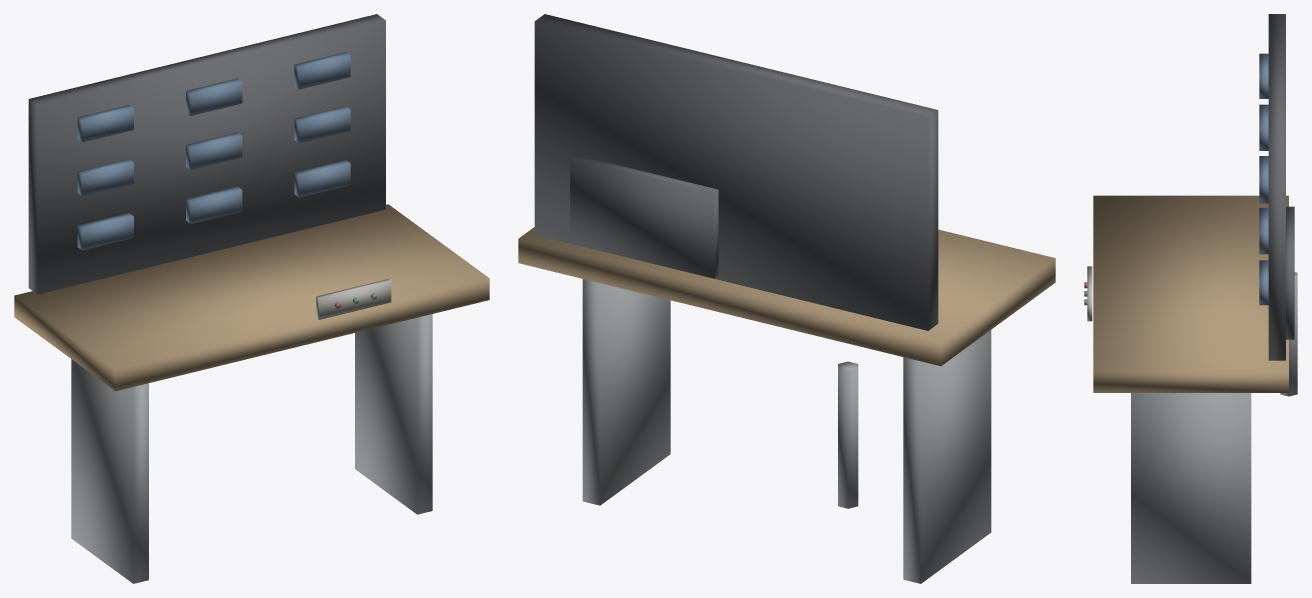
The model's file is electronics_repair_bench__service.glb.
The picture shows the model from 3 angles, left to right: view 1: azimuth 30°, elevation 25°; view 2: azimuth 150°, elevation 25°; view 3: azimuth 270°, elevation 25°; orthographic projection. The views are drawn at different scales.
Parts seen in each view (by area): view 1: world; view 2: world; view 3: world.
Part boxes in pixels (box(x1,y1,x2,y2)): world: box(14, 14, 489, 583); world: box(518, 14, 1055, 583); world: box(1084, 14, 1297, 583).
Bounding box in the file's own units: 1.45 × 1.6 × 0.7413.
